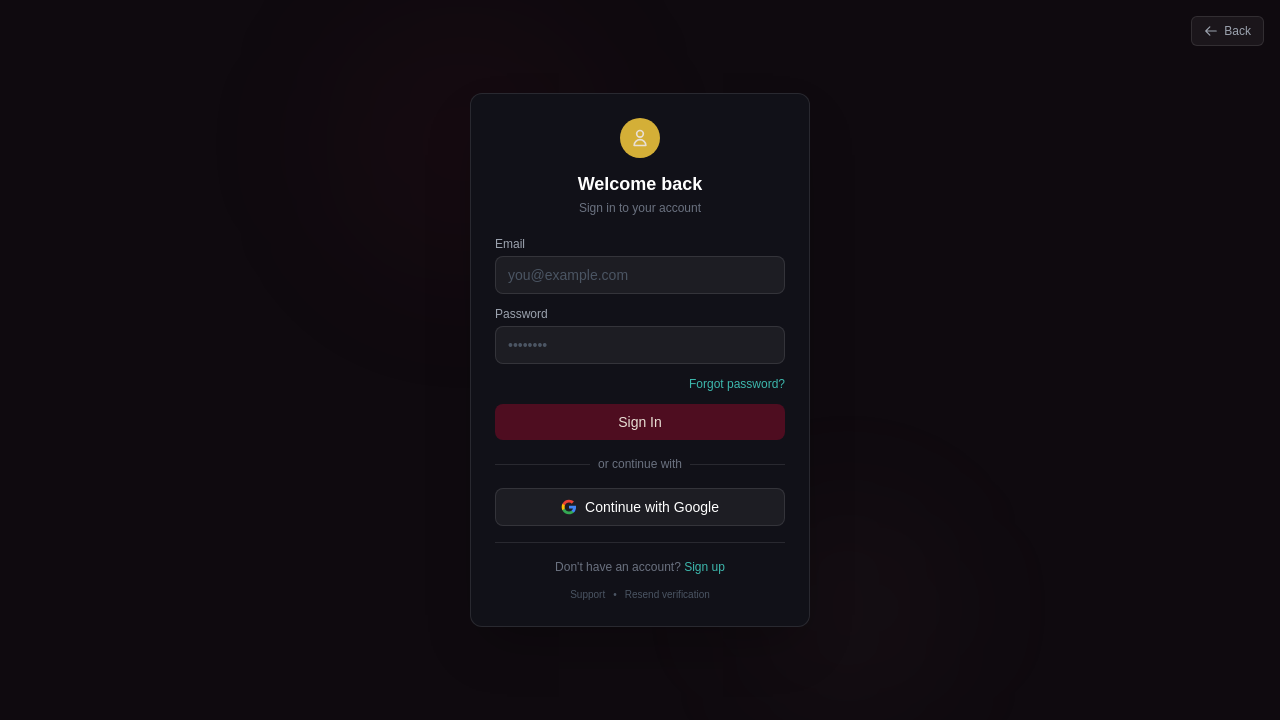
Authentication Flow › Login Page › should show error for invalid credentials
Expected: the heading "Welcome back" is shown, [578, 174, 702, 194]
Type "invalid@test.com" into the field with placeholder "you@example.com" at x=640, y=275, box [495, 256, 785, 294]
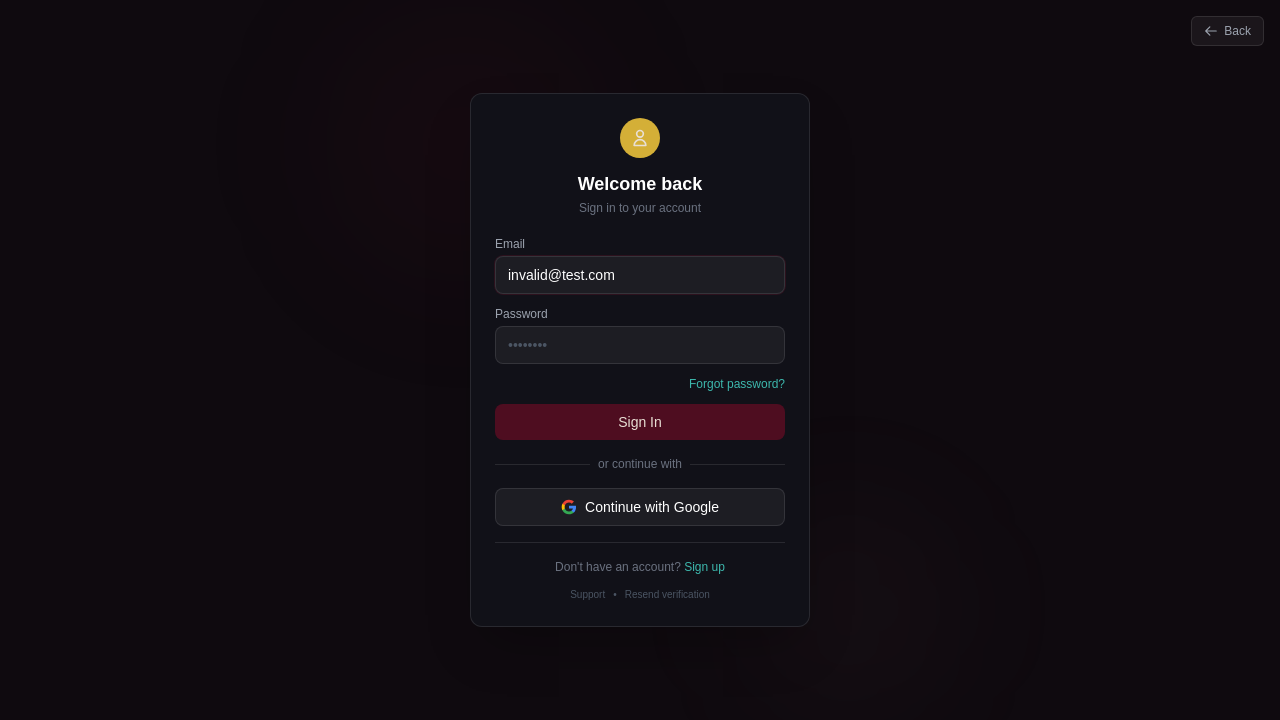
Type "wrongpassword123" into the password field with placeholder "••••••••" at x=640, y=345, box [495, 326, 785, 364]
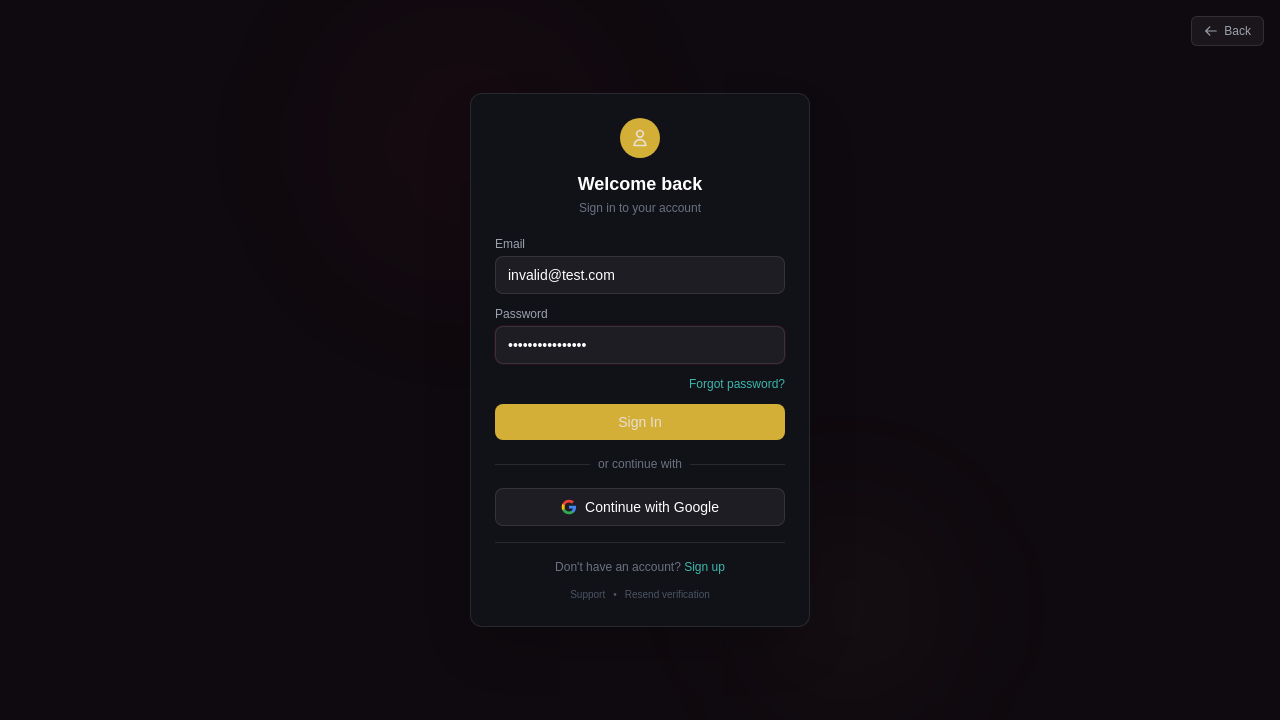
Click the submit button at x=640, y=422, box [495, 404, 785, 440]
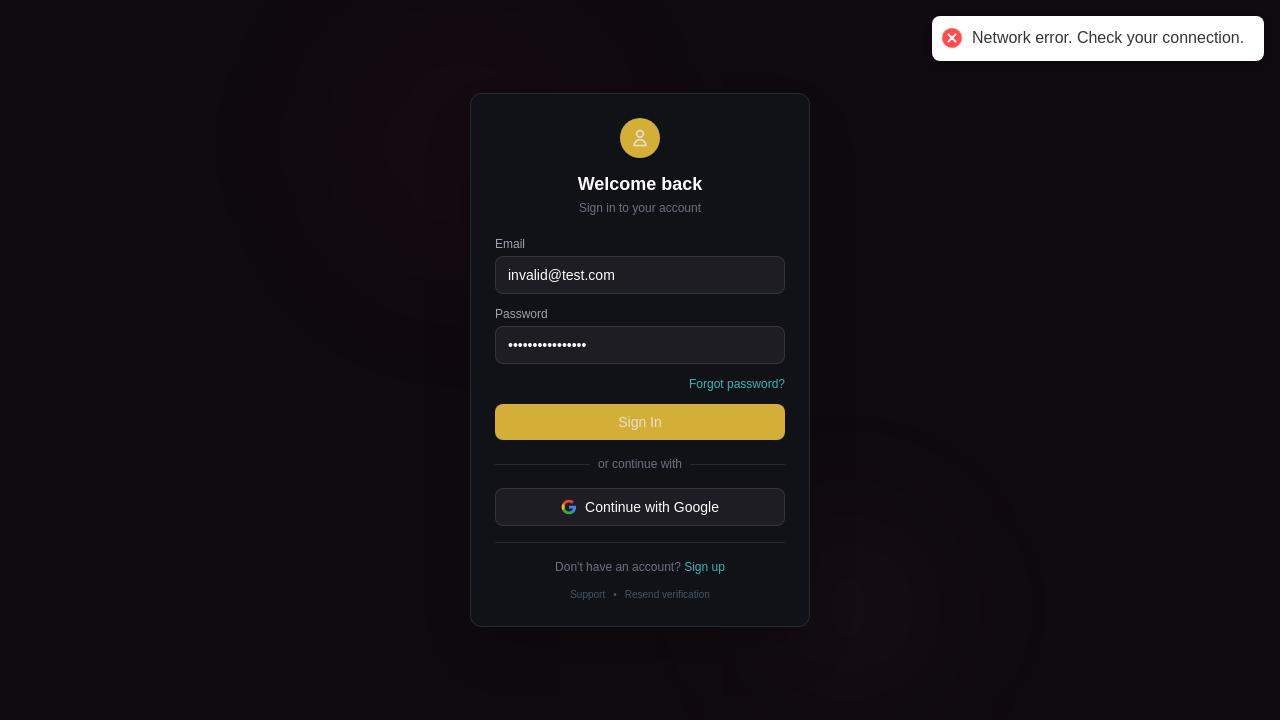
Now the message "Network error. Check your connection." is shown, box [972, 28, 1244, 49]
